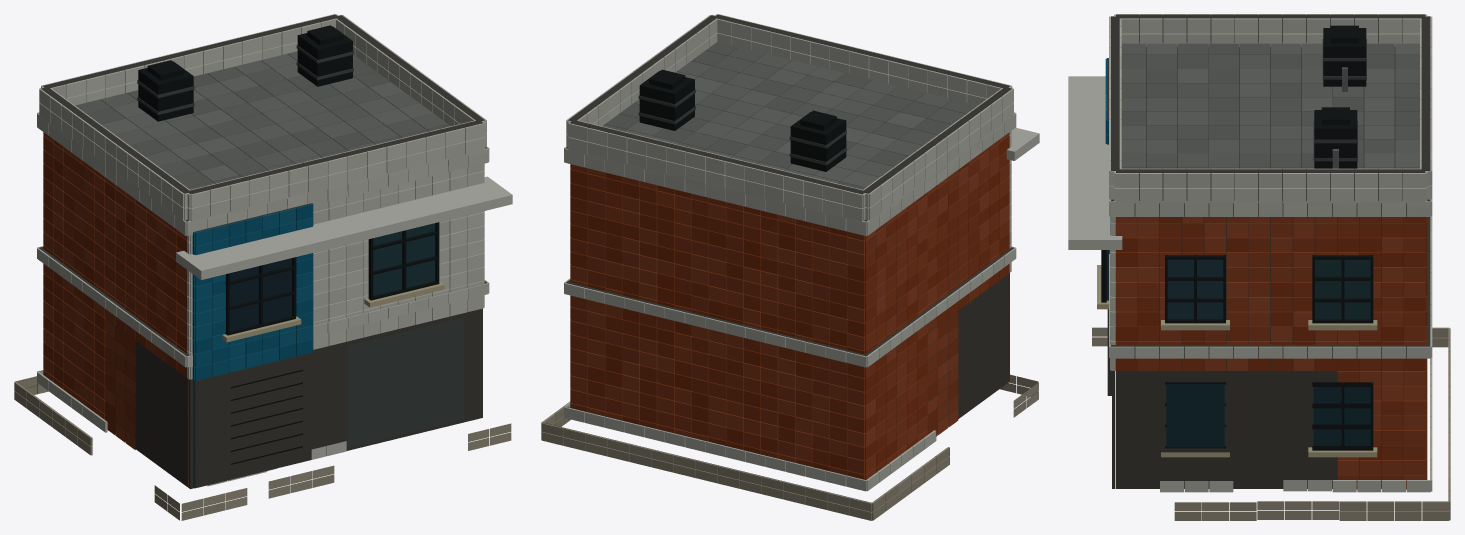
The model's file is SM_StreetFrontage_048.fbx.
3 views of the same model, side by side, from view 1: azimuth 30°, elevation 25°; view 2: azimuth 150°, elevation 25°; view 3: azimuth 270°, elevation 25° (orthographic). The views are drawn at different scales.
Parts seen in each view (by area): view 1: SM_StreetFrontage_048; view 2: SM_StreetFrontage_048; view 3: SM_StreetFrontage_048.
Part boxes in pixels (left/top/right/bottom): SM_StreetFrontage_048: left=14, top=14, right=512, bottom=520; SM_StreetFrontage_048: left=541, top=14, right=1039, bottom=520; SM_StreetFrontage_048: left=1068, top=14, right=1450, bottom=520.
Bounding box in the file's own units: 8 × 7.4 × 7.88.
